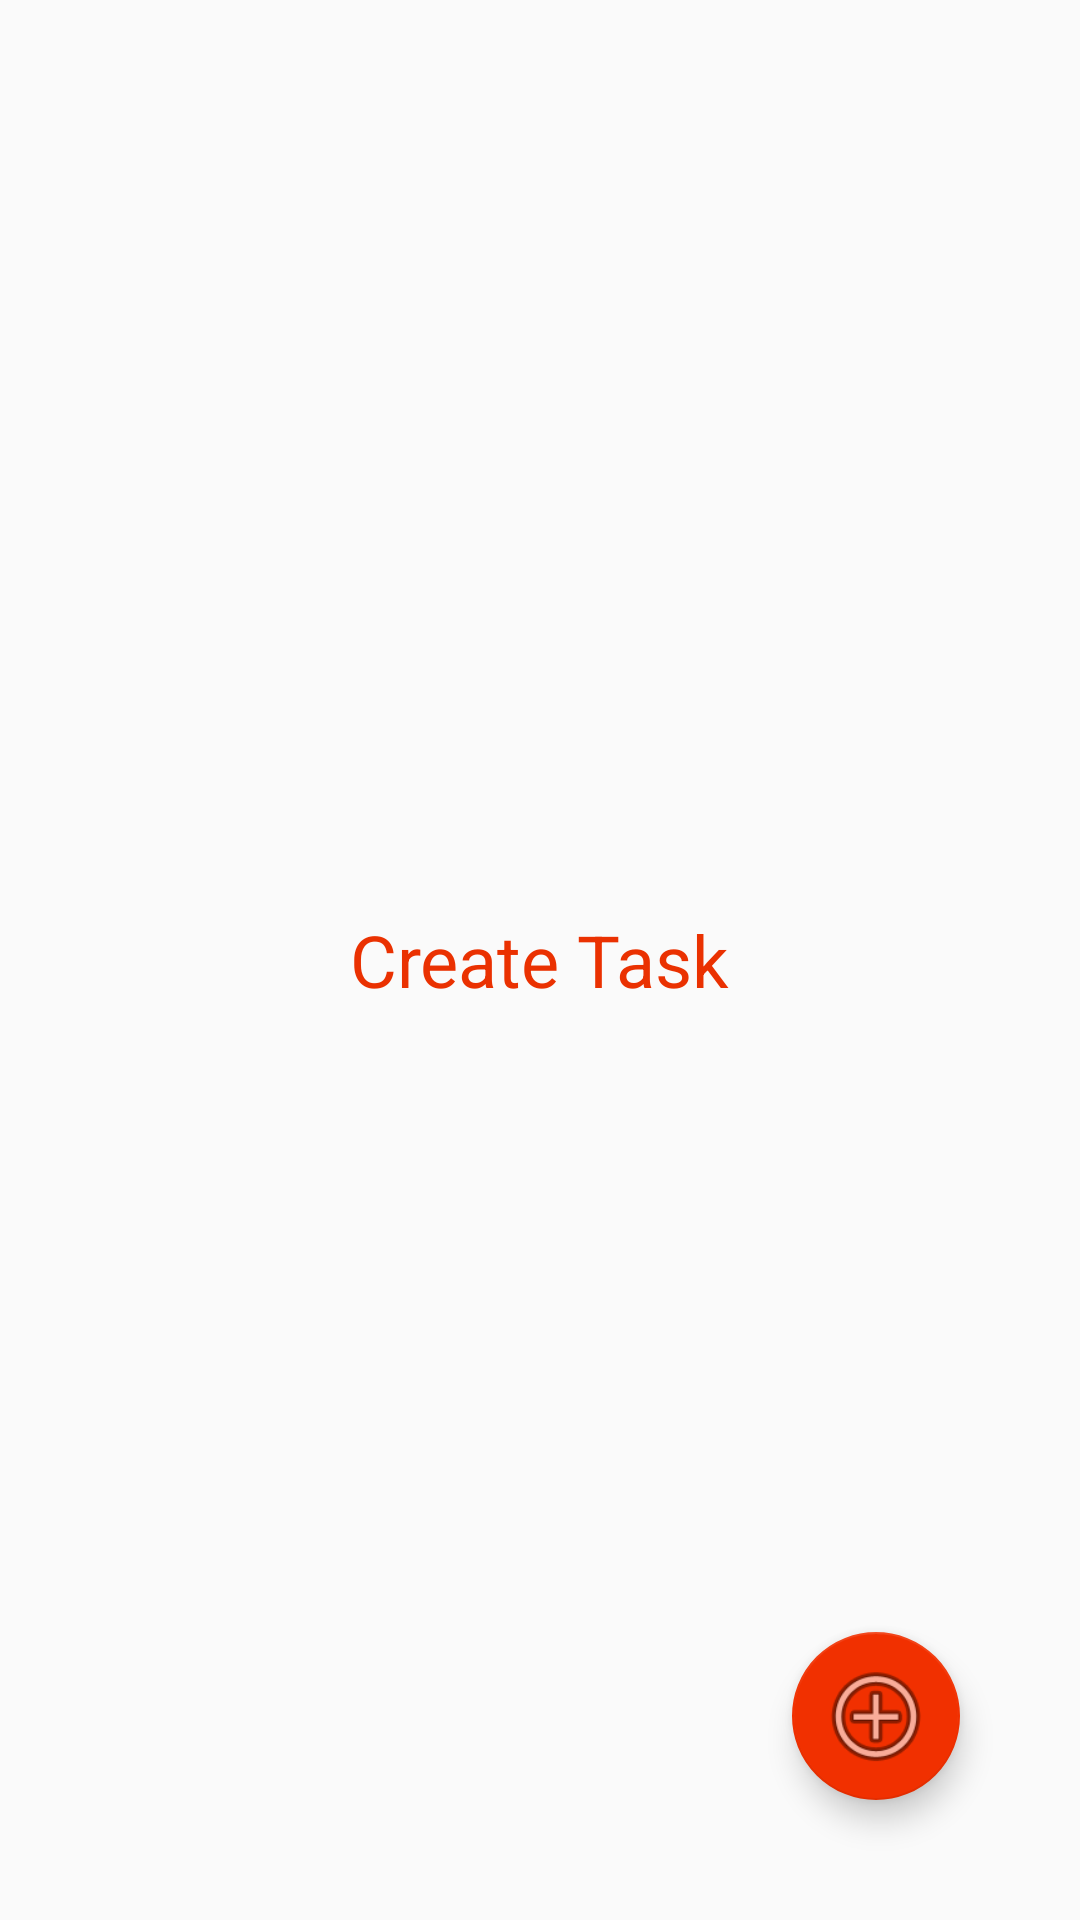

Locate icon controls on the screen. Image size 1080px x 1920px, boxes as (x1, y1, x2, y2).
add: (792, 1632, 960, 1800)
